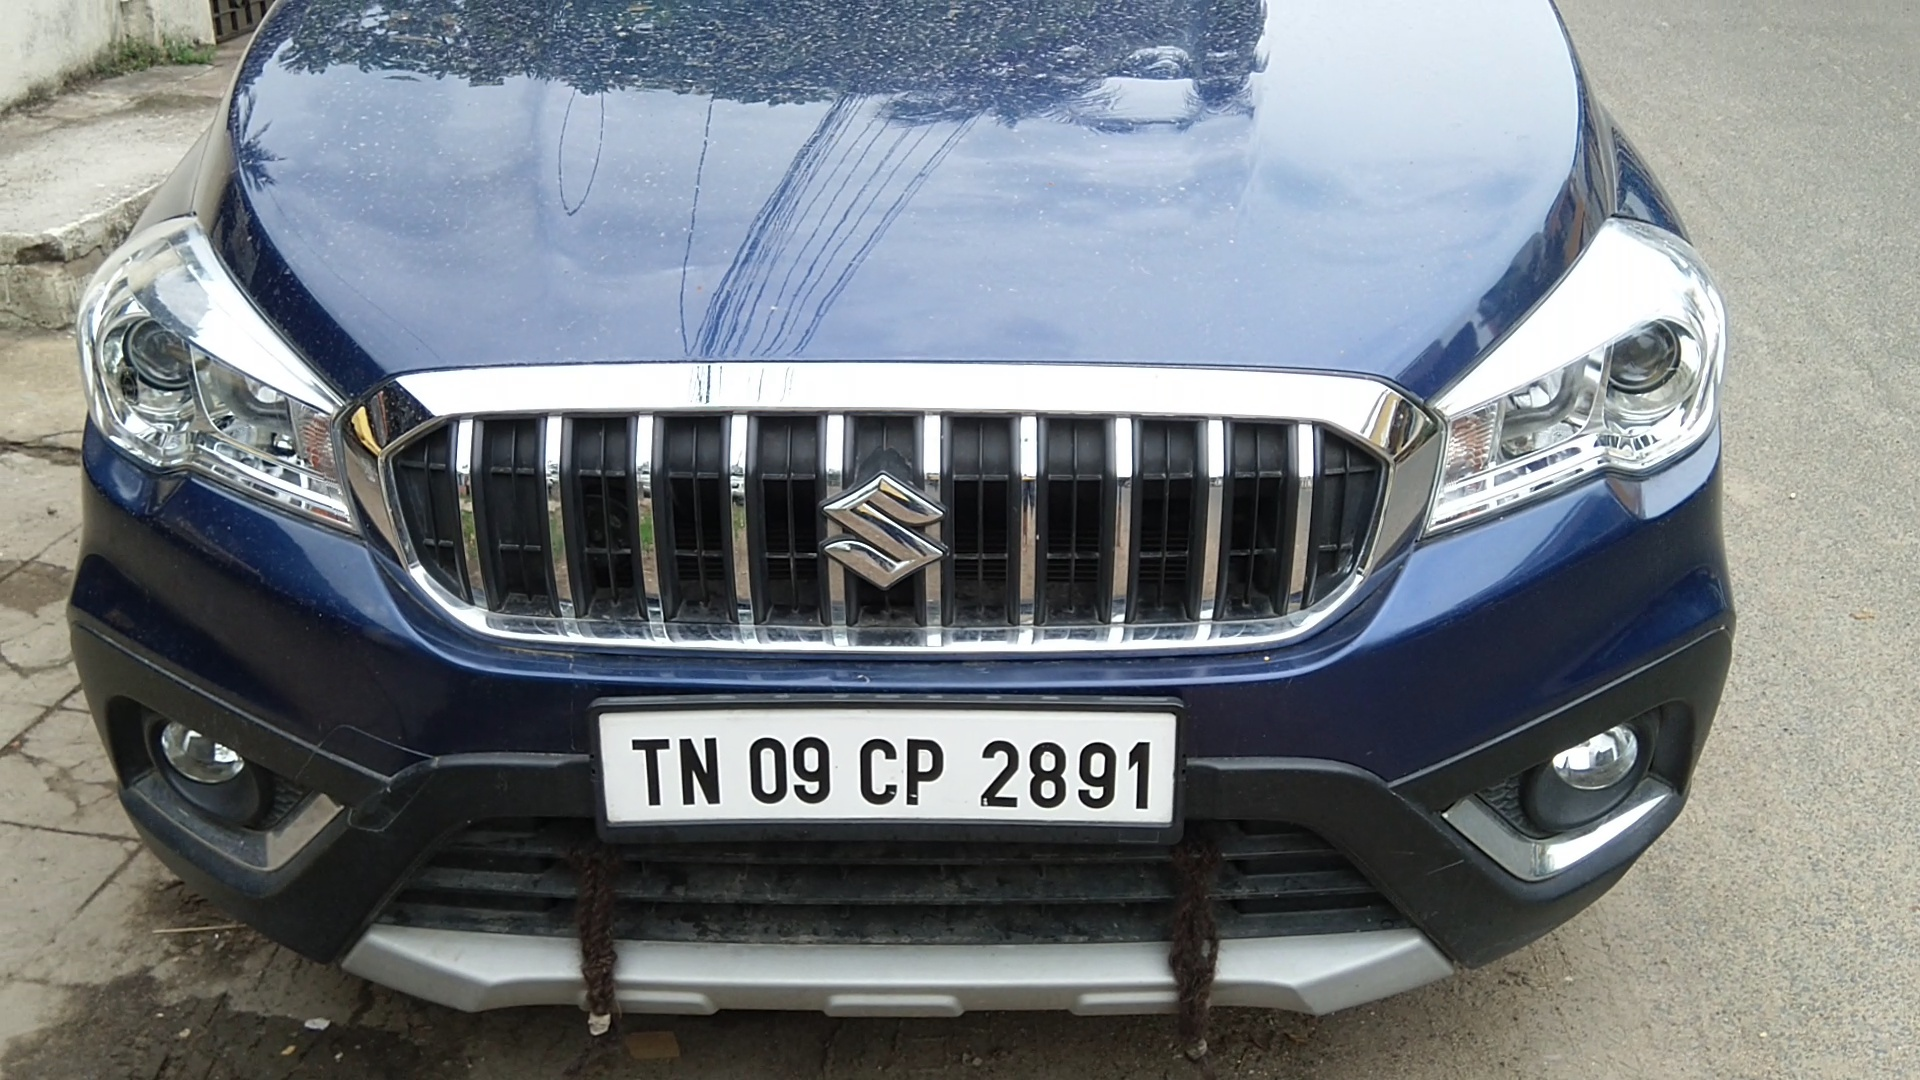front_grill: (342, 349, 1424, 684)
headlamp: (1435, 208, 1729, 543), (73, 204, 335, 534)
